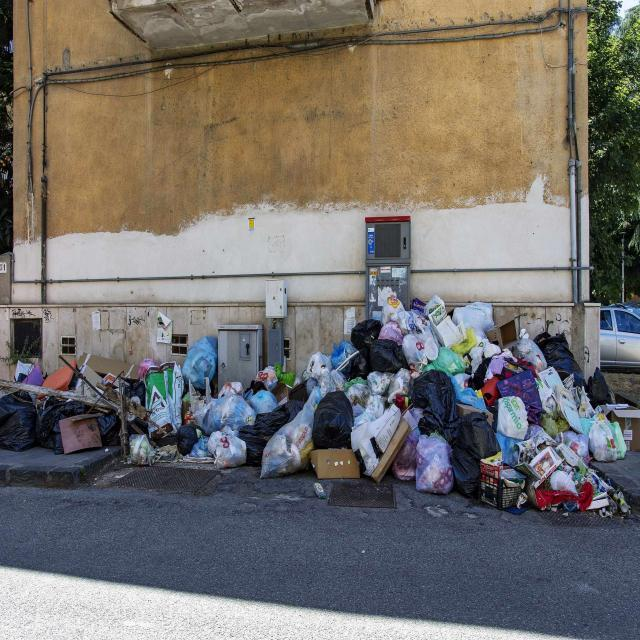garbage: (10, 293, 640, 526)
